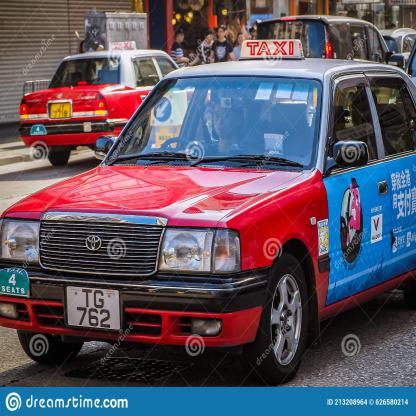taxi: (1, 37, 416, 416)
